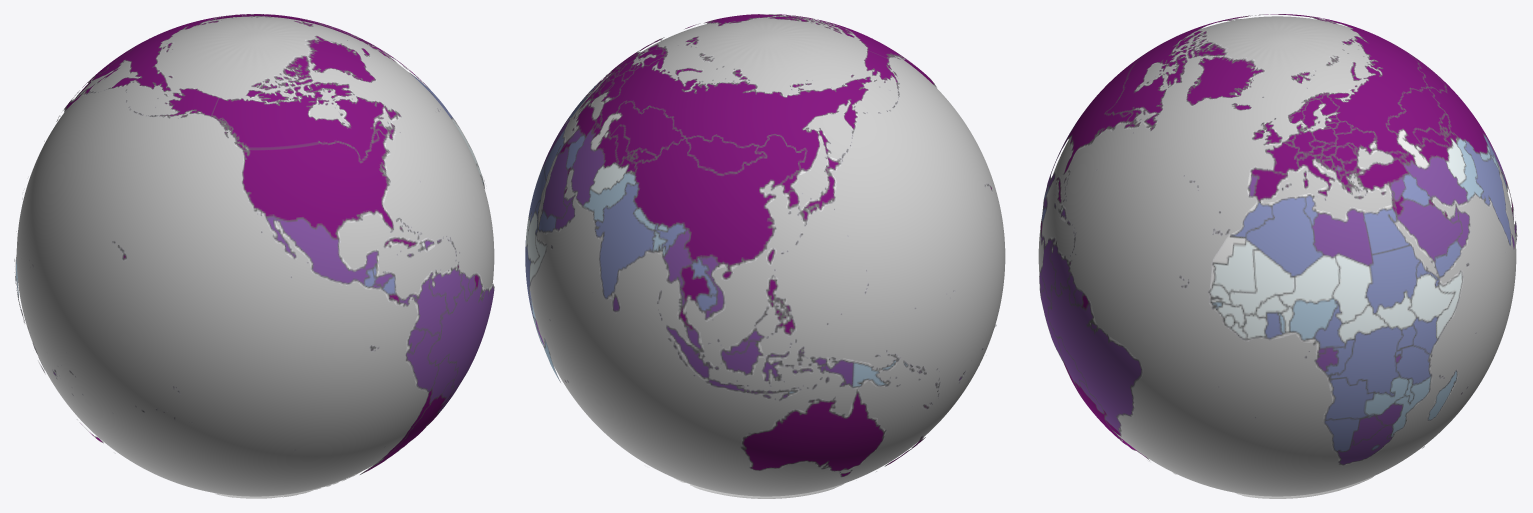
Rendered from submeshes.fbx.
3 views of the same model, side by side, from view 1: azimuth 30°, elevation 25°; view 2: azimuth 150°, elevation 25°; view 3: azimuth 270°, elevation 25° (orthographic).
Visible parts, largest first — view 1: base.002; view 2: base.002; view 3: base.002.
Boxes of the visible parts, x1,y1,x2,y2 form: base.002: (14, 14, 494, 498); base.002: (525, 14, 1005, 498); base.002: (1038, 14, 1517, 498).
Size of the model in its own units: 197 by 200 by 197.
